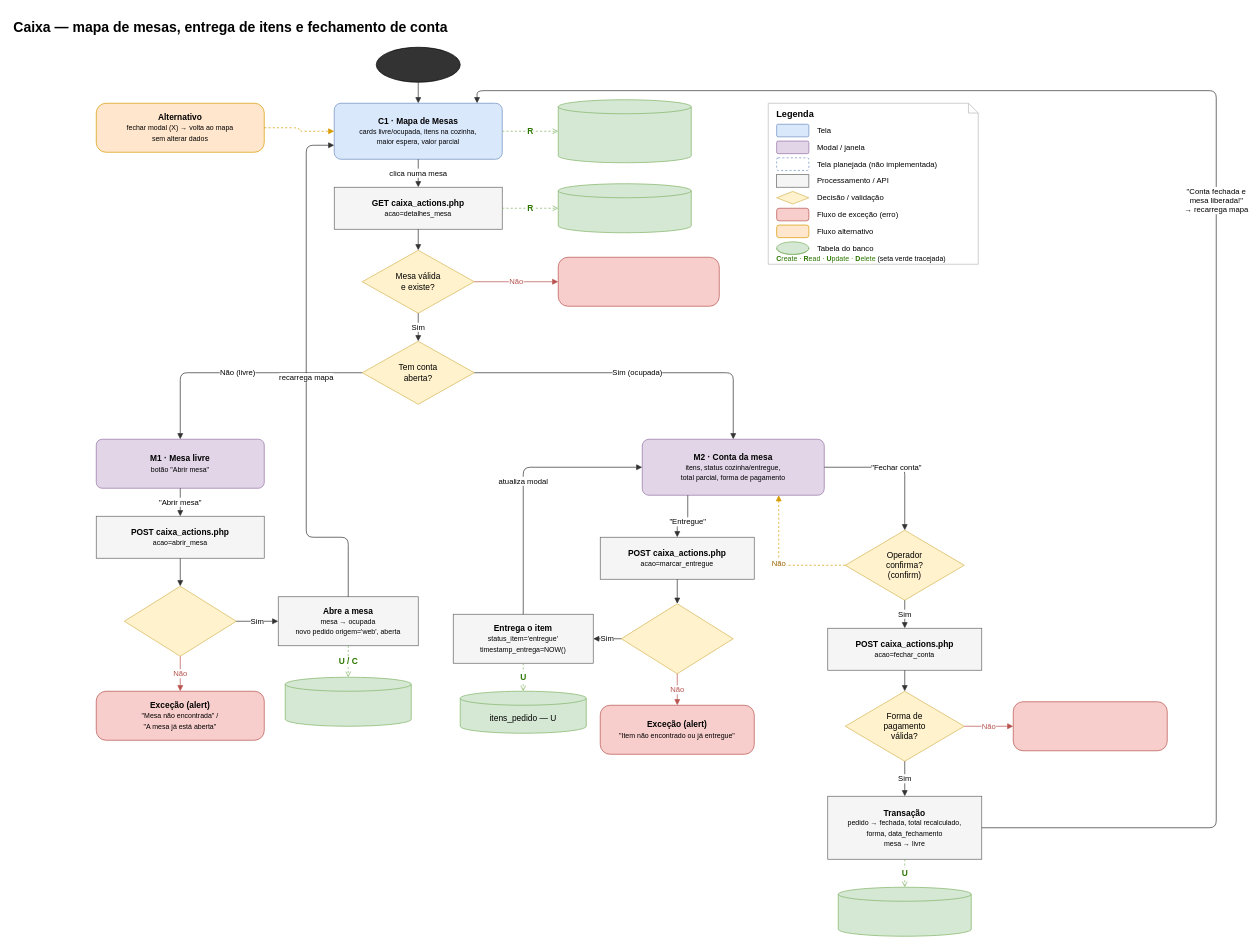
This 1260x949 diagram has some shape labels left out. The centre of each missing label's shape, as x and y in pixels:
Exceção "Erro ao carregar mesa" no modal: point (638, 281)
Exceção (alert) "Forma de pagamento inválida": point (1090, 726)
Item na cozinha e conta aberta?: point (677, 638)
Mesa existe e está livre?: point (180, 621)
mesas — R pedidos — R itens_pedido — R: point (624, 131)
mesas — U pedidos — C: point (348, 701)
Operador no caixa: point (418, 64)
pedidos — U mesas — U: point (904, 911)
pedidos, itens_pedido, produtos — R: point (624, 208)
